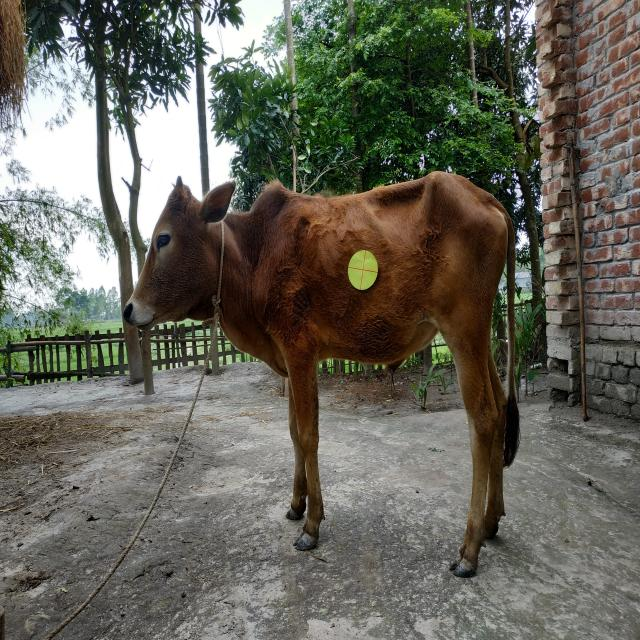badan_sapi: (250, 172, 504, 358)
sapi: (115, 163, 539, 586)
